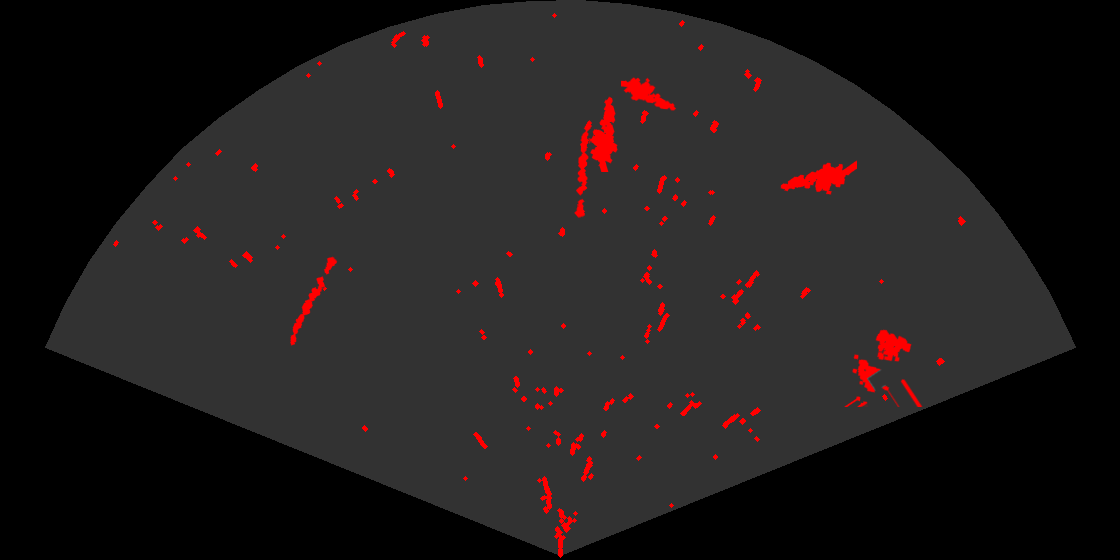cage: (843, 328, 924, 407)
chain: (289, 255, 339, 347), (573, 119, 593, 218)
frogman: (779, 159, 857, 196), (585, 95, 619, 172), (621, 76, 678, 112)
